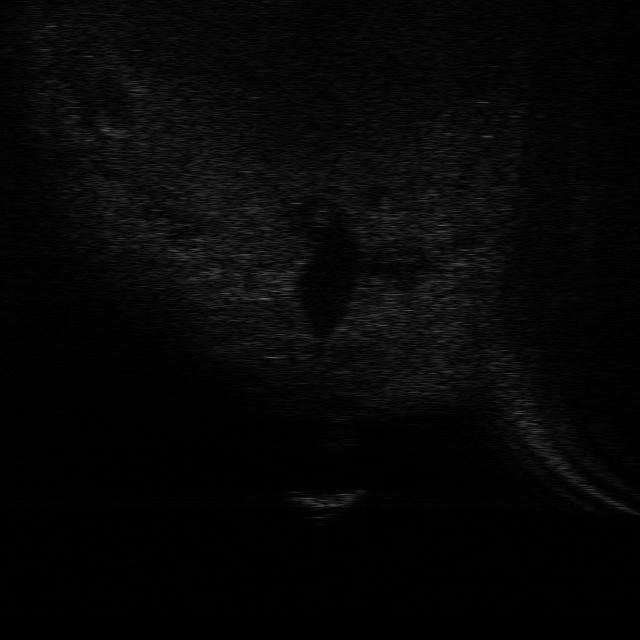cube: (282, 488, 368, 517)
